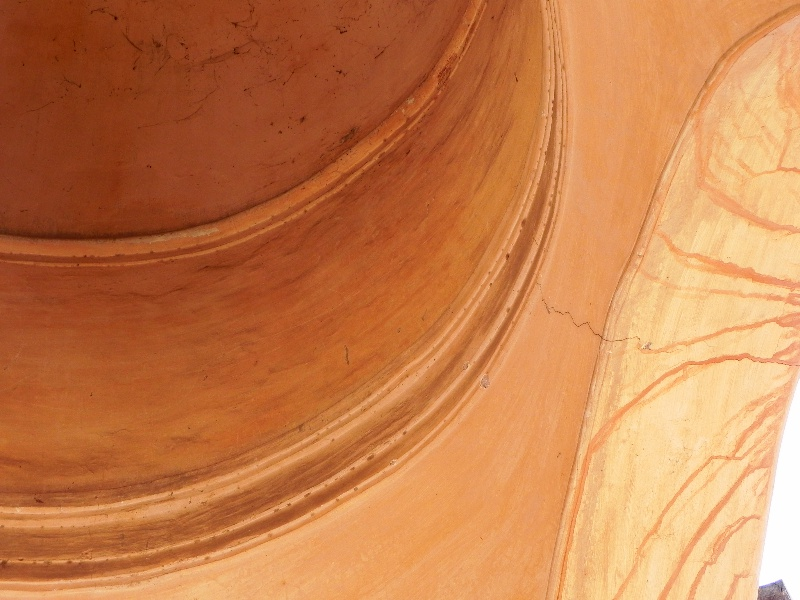Crack: (535, 283, 606, 340), (611, 329, 654, 351)
